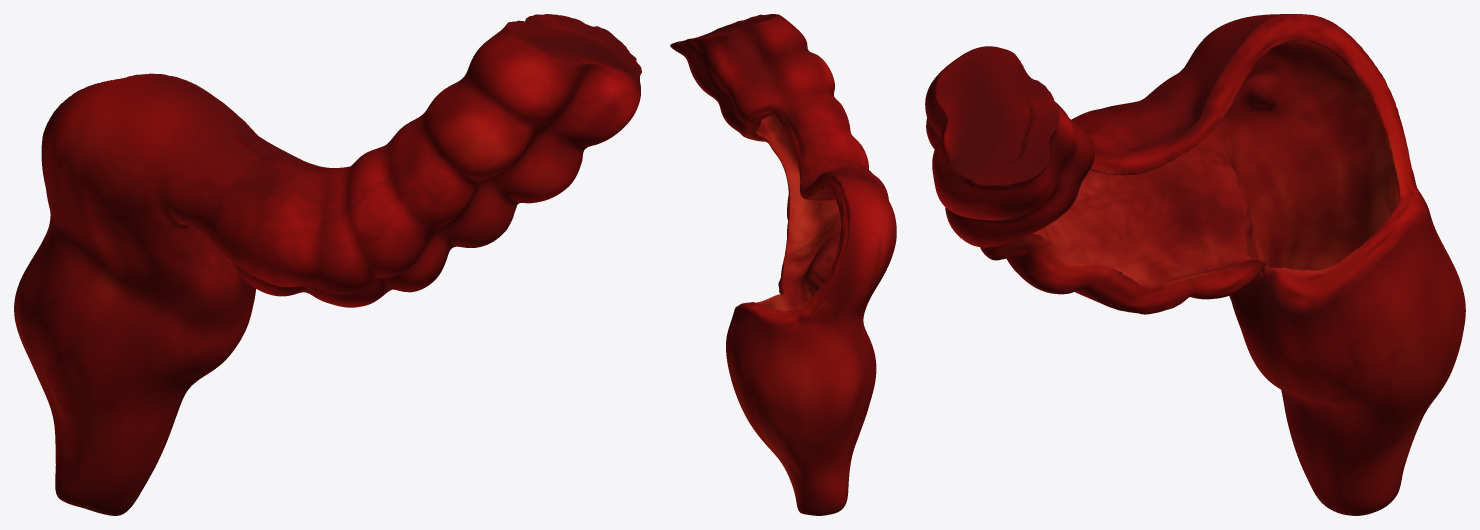
File: stage-1-m-v1.glb
The picture shows the model from 3 angles, left to right: view 1: azimuth 30°, elevation 25°; view 2: azimuth 150°, elevation 25°; view 3: azimuth 270°, elevation 25°; orthographic projection. The views are drawn at different scales.
Visible parts, largest first — view 1: BOOLEAN COLON HEALTHY1; view 2: BOOLEAN COLON HEALTHY1; view 3: BOOLEAN COLON HEALTHY1.
Part boxes in pixels (x1,y1,x2,y2): BOOLEAN COLON HEALTHY1: [14, 14, 641, 515]; BOOLEAN COLON HEALTHY1: [670, 14, 896, 515]; BOOLEAN COLON HEALTHY1: [925, 14, 1465, 515].
Size of the model in its own units: 0.3578 by 0.4251 by 0.3558.
1 material, 1 textured.
